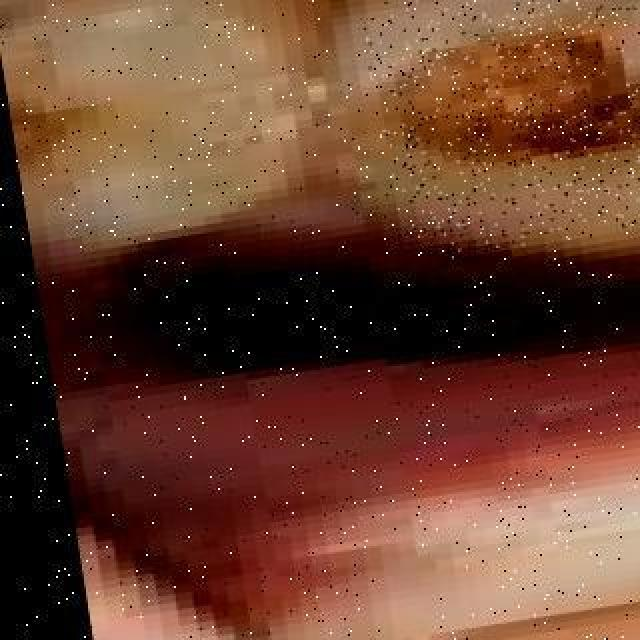cavities: (404, 0, 640, 290)
